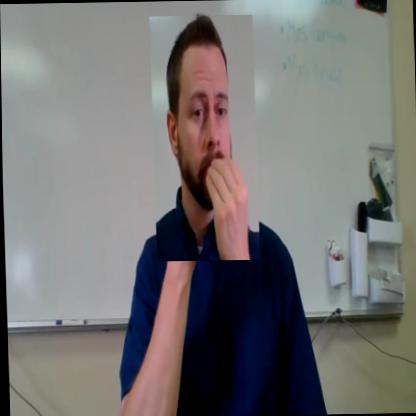Food: (149, 14, 260, 261)
